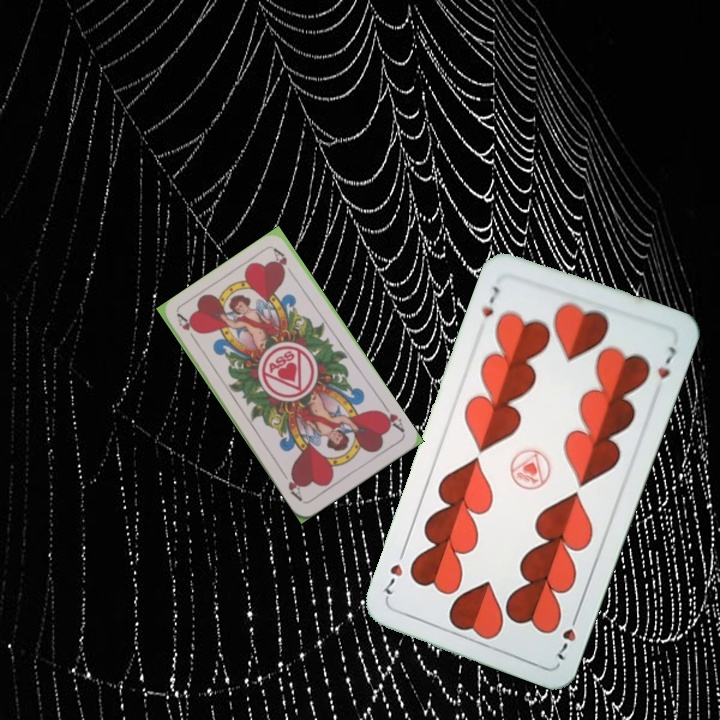H7: (553, 608, 582, 663), (477, 282, 503, 320)
HA: (375, 400, 407, 435), (173, 310, 201, 347)
